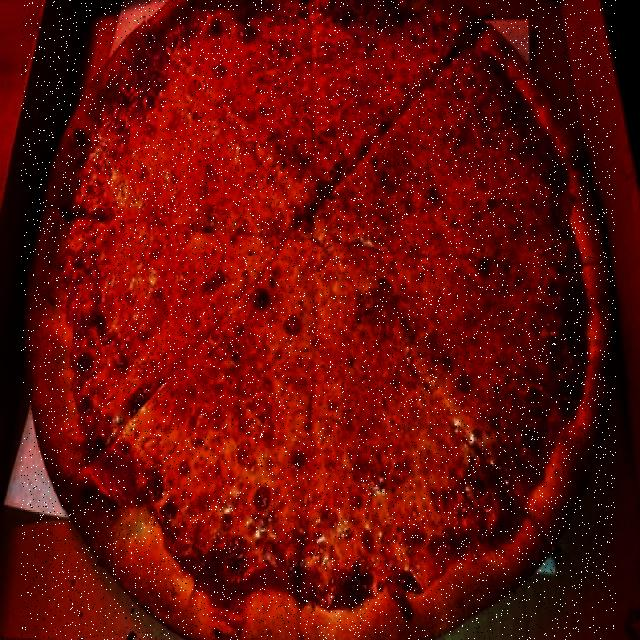Pizza: (21, 0, 616, 640)
